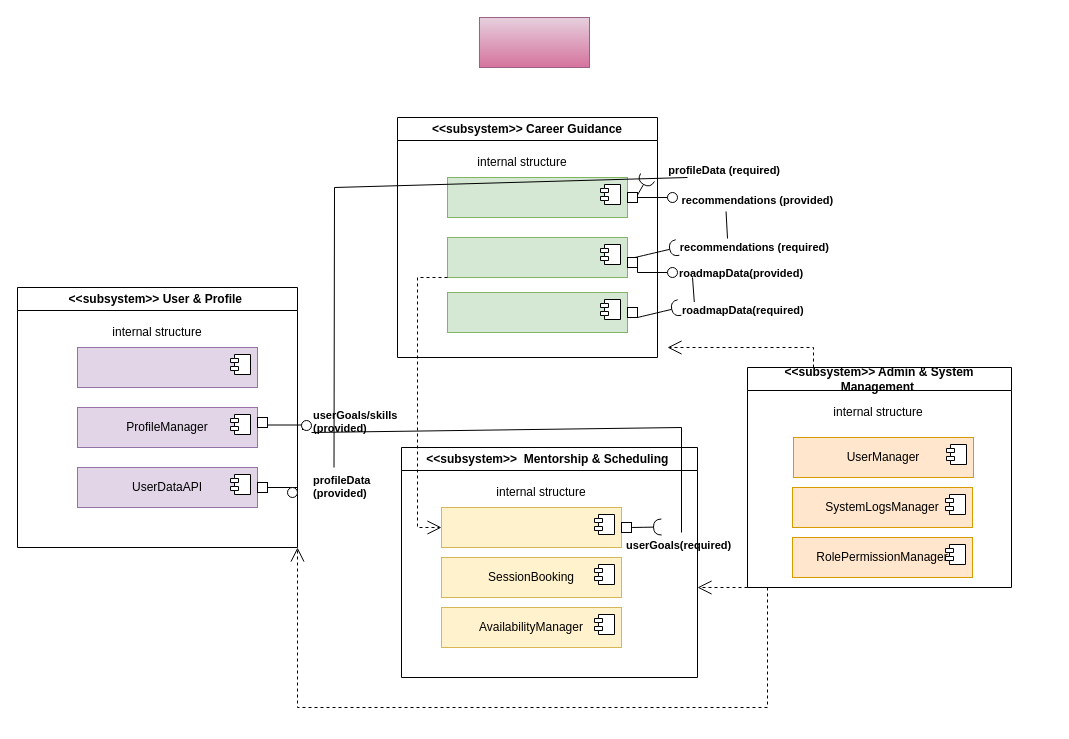
The diagram is 1069 pixels wide and 739 high, and some of its shapes have lost their labels. The centre of each missing label's shape, as x and y in pixels:
"AuthenticationService" belongs at (x=167, y=367).
"COMPONENT DIAGRAM" belongs at (x=534, y=42).
"MentorFinder" belongs at (x=531, y=527).
"ProgressTracker" belongs at (x=537, y=312).
"RecommendationEngine" belongs at (x=537, y=197).
"RoadmapGenerator" belongs at (x=537, y=257).
